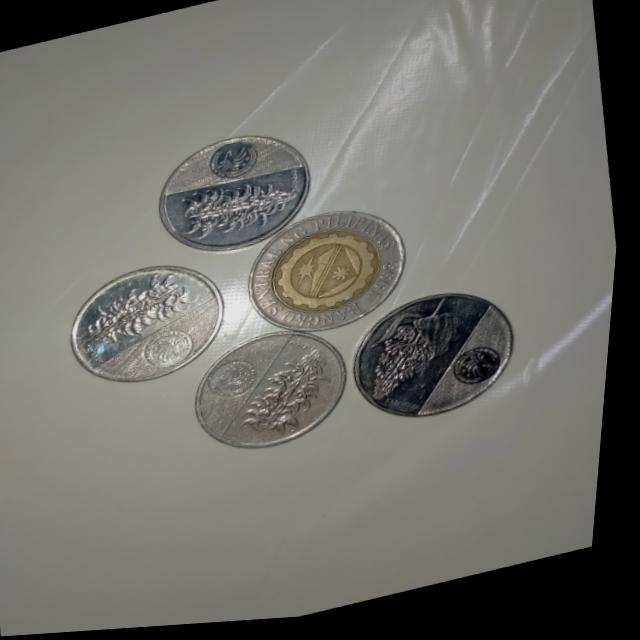10_New_Back: (362, 294, 480, 414)
10_Old_Back: (240, 202, 422, 348)
5_New_Back: (169, 167, 304, 252)
